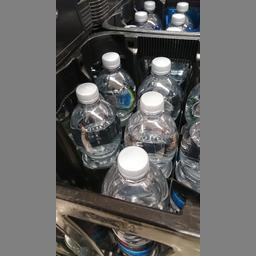water: (98, 145, 167, 247), (122, 90, 175, 177), (70, 78, 119, 164), (135, 52, 182, 116), (96, 48, 133, 118)
